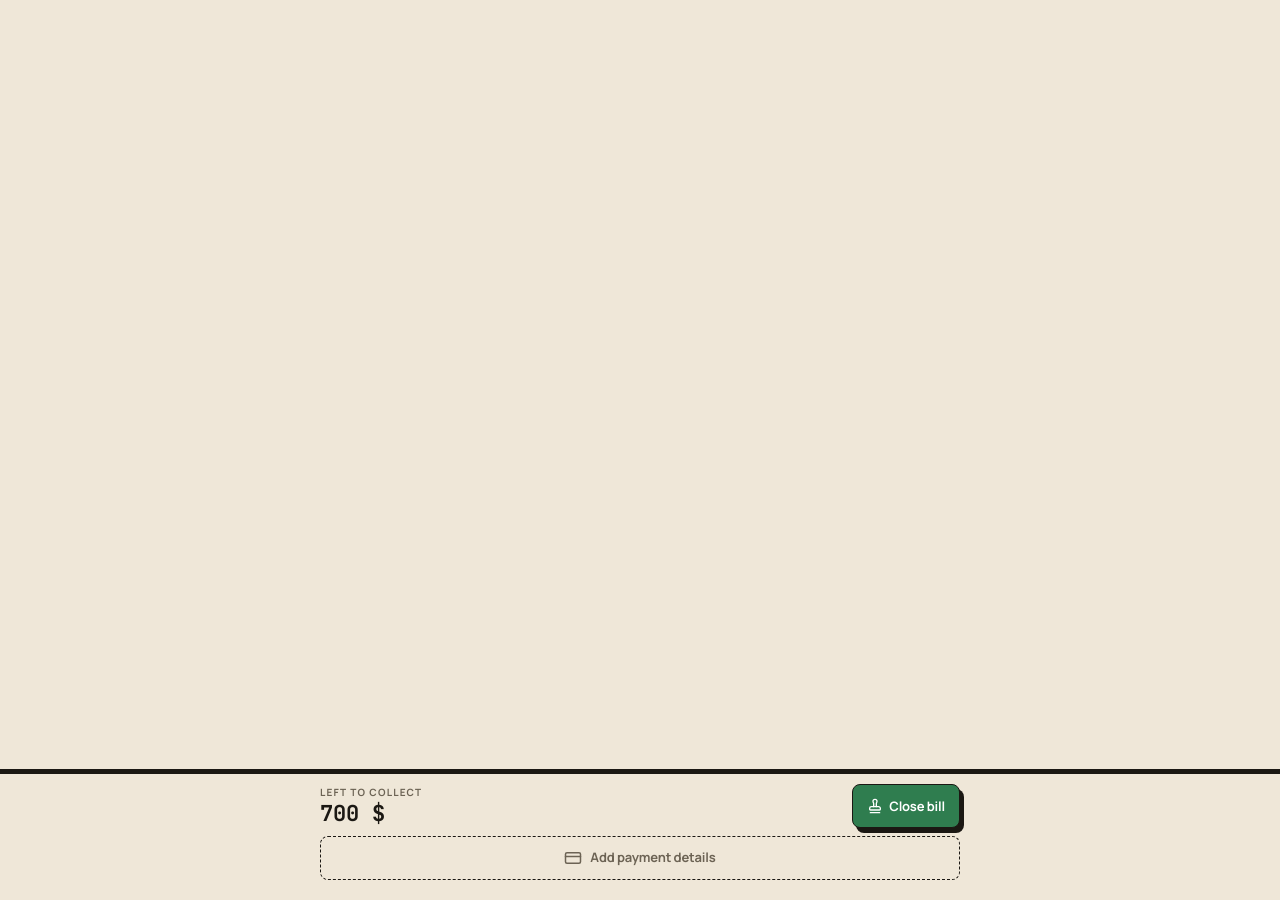
Test: BillPaymentDock creator states › shows what is left to collect, edits a missing card in a modal, and closes
The image size is (1280, 900).
Later steps or results of the test are not shown.
Expected: the text "Left to collect" is shown, [320,785,422,800]
Expected: the text "700 $" is shown, [320,800,385,827]
Click the button "Close bill" at (906, 806), box [852,784,960,828]
Click the button "Add payment details" at (640, 858), box [320,836,960,880]
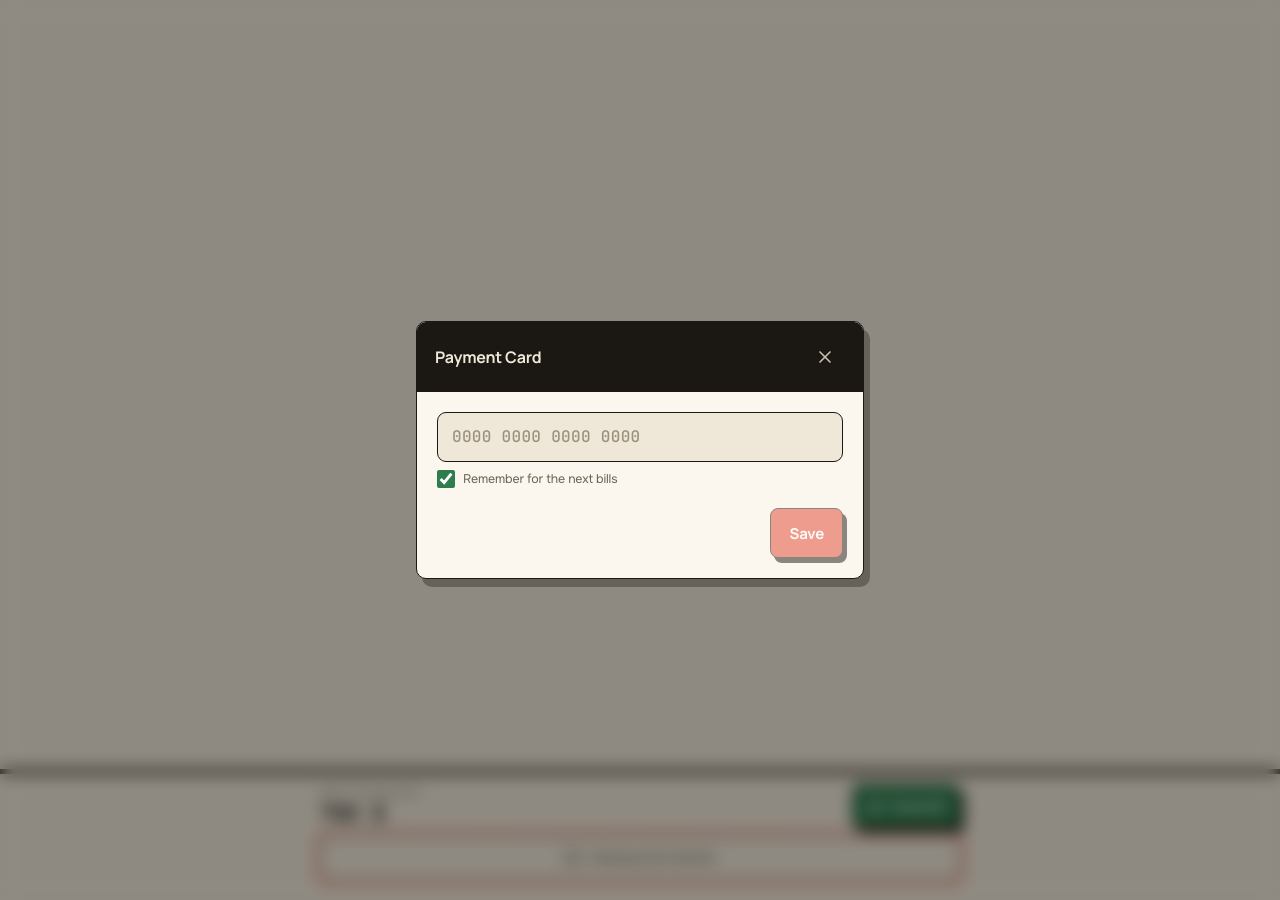
Result: the dialog "Payment Card" is shown at [416,321,864,579]
